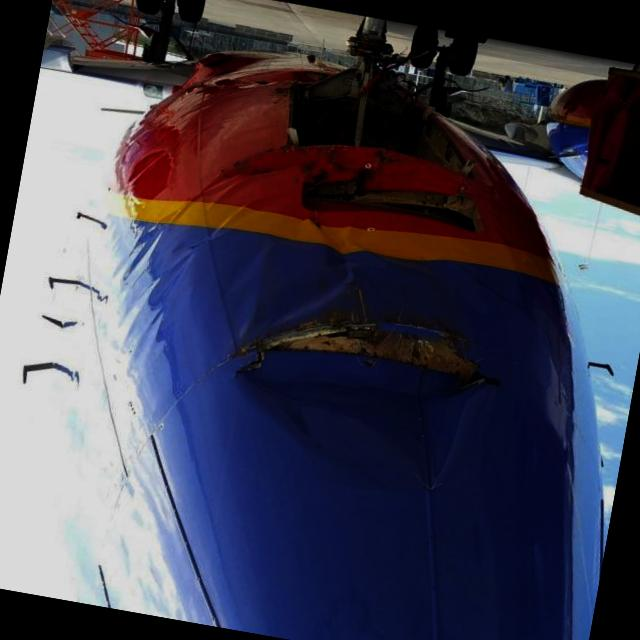crack: (218, 339, 272, 382)
dent: (227, 355, 478, 501), (265, 221, 388, 346)
